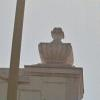Statue: (31, 22, 92, 70)
